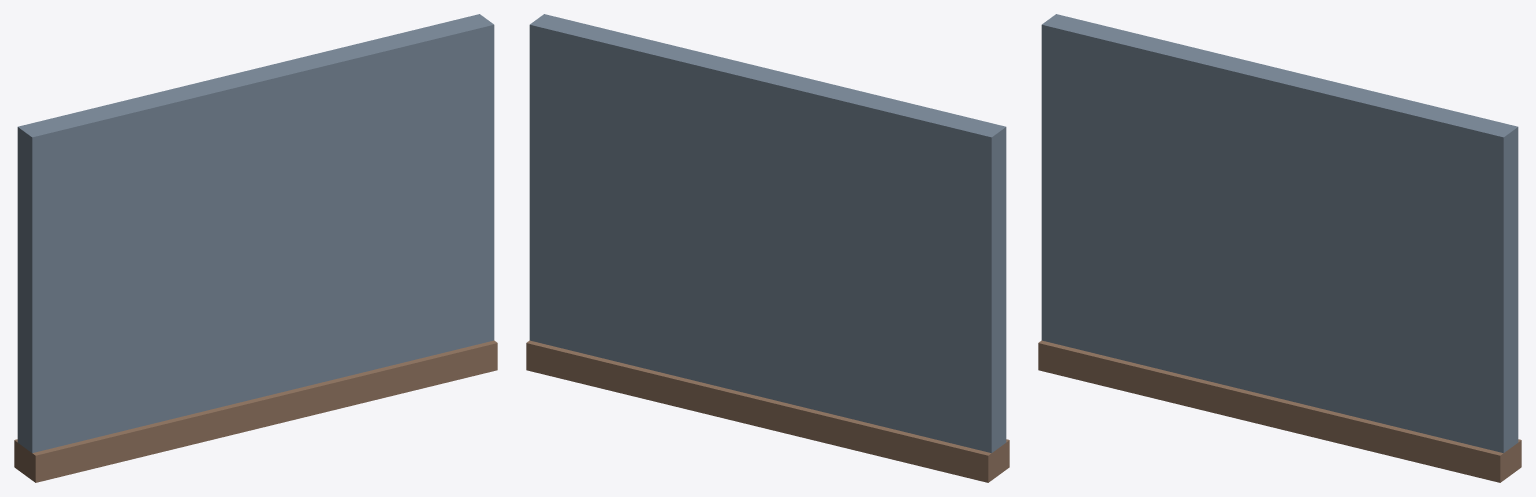
Rendered from Wall.fbx.
3 views of the same model, side by side, from view 1: azimuth 30°, elevation 25°; view 2: azimuth 150°, elevation 25°; view 3: azimuth 330°, elevation 25° (orthographic).
Visible parts, largest first — view 1: Wall; view 2: Wall; view 3: Wall.
Boxes of the visible parts, bbox=[...] form: Wall: bbox=[14, 14, 497, 482]; Wall: bbox=[526, 14, 1009, 482]; Wall: bbox=[1038, 14, 1521, 482].
Size of the model in its own units: 1194 by 847 by 96.21.
